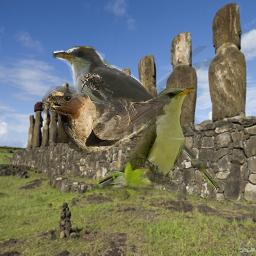Cuckoo: (52, 46, 220, 190), (98, 84, 198, 202)
Swallow: (42, 86, 173, 157)
